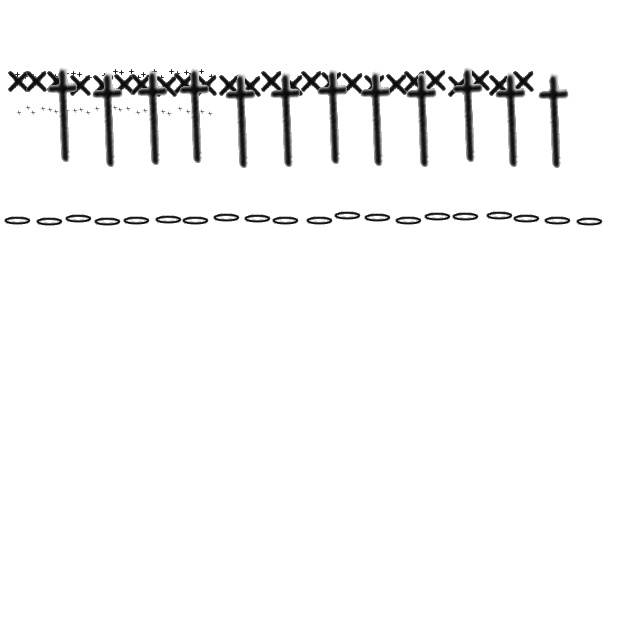chain: (2, 215, 34, 227), (34, 216, 66, 228), (92, 216, 124, 228), (180, 215, 212, 227), (242, 213, 274, 225), (270, 215, 302, 227), (304, 215, 336, 227), (332, 210, 364, 222), (362, 212, 394, 224), (422, 211, 454, 223), (450, 211, 482, 223), (484, 210, 516, 222), (542, 215, 574, 227), (574, 216, 606, 228), (64, 213, 94, 225), (122, 215, 152, 227), (154, 214, 184, 226), (212, 212, 242, 224), (394, 215, 424, 227), (512, 213, 542, 225)
double: (112, 70, 138, 98), (154, 72, 180, 100), (238, 72, 264, 100), (384, 70, 410, 98), (446, 72, 472, 100), (6, 68, 32, 94), (24, 68, 50, 94), (68, 72, 94, 98), (172, 70, 198, 96), (194, 72, 220, 98), (280, 72, 306, 98), (340, 70, 366, 96), (362, 72, 388, 98), (402, 68, 428, 94), (130, 70, 154, 98), (320, 68, 344, 96), (424, 66, 448, 94), (468, 66, 492, 94), (46, 68, 70, 94), (92, 72, 116, 98), (218, 72, 242, 98), (260, 68, 284, 94), (300, 68, 324, 94), (488, 72, 512, 98), (512, 68, 536, 94), (184, 70, 190, 76), (16, 110, 22, 116), (30, 110, 36, 116), (40, 106, 46, 112), (64, 108, 70, 114), (72, 108, 78, 114), (85, 110, 91, 116), (94, 106, 100, 112), (104, 106, 110, 112), (125, 106, 131, 112), (135, 110, 141, 116), (142, 108, 148, 114), (152, 108, 158, 114), (177, 106, 183, 112), (16, 72, 20, 78), (24, 74, 28, 80), (32, 74, 36, 80), (54, 74, 58, 80), (64, 72, 70, 76), (78, 72, 82, 78), (102, 74, 108, 78), (120, 70, 124, 76), (136, 76, 142, 80), (142, 72, 146, 78), (152, 70, 158, 74), (210, 74, 214, 80), (25, 106, 31, 110), (47, 108, 53, 112), (53, 110, 59, 114), (78, 108, 84, 112), (112, 106, 118, 110), (117, 108, 123, 112), (160, 110, 166, 114), (166, 112, 172, 116), (185, 110, 191, 114), (192, 108, 198, 112), (199, 110, 205, 114), (207, 112, 213, 116), (40, 74, 44, 78), (50, 74, 54, 78), (72, 72, 76, 76), (88, 76, 92, 80), (94, 76, 98, 80), (114, 70, 118, 74), (130, 70, 134, 74), (160, 76, 164, 80), (170, 70, 174, 74), (176, 72, 180, 76), (190, 72, 194, 76), (200, 70, 204, 74)
enseble_chain: (126, 70, 184, 168), (168, 68, 226, 166), (484, 72, 542, 170), (36, 68, 94, 164), (214, 74, 272, 170), (306, 70, 364, 166), (82, 72, 138, 170), (260, 72, 316, 170), (396, 72, 452, 170), (350, 72, 406, 168), (442, 68, 498, 164), (528, 74, 584, 170)
